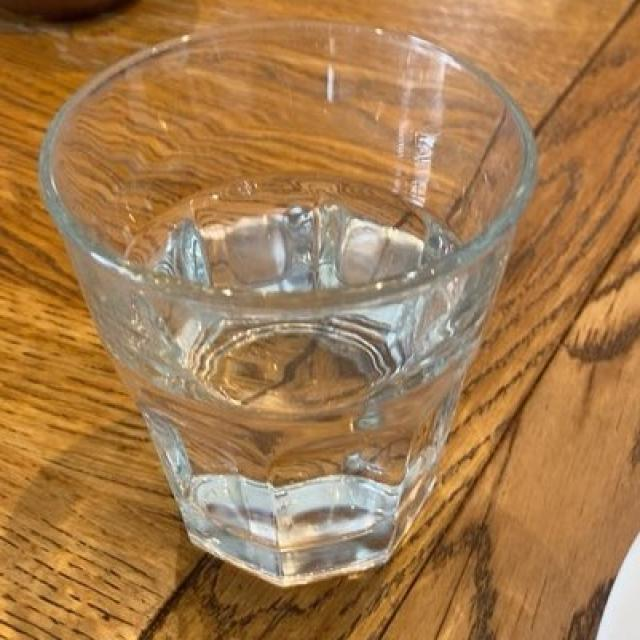water: (112, 169, 482, 552)
